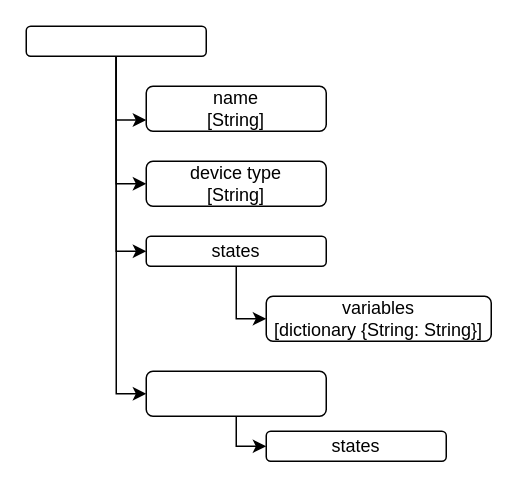
This 518x488 diagram has some shape labels left out. Here are the shapes that lost their labels. From the top down, the centre of each, then its label:
At (115,40): "Test Scenario".
At (235,393): "Transitions [list]".
